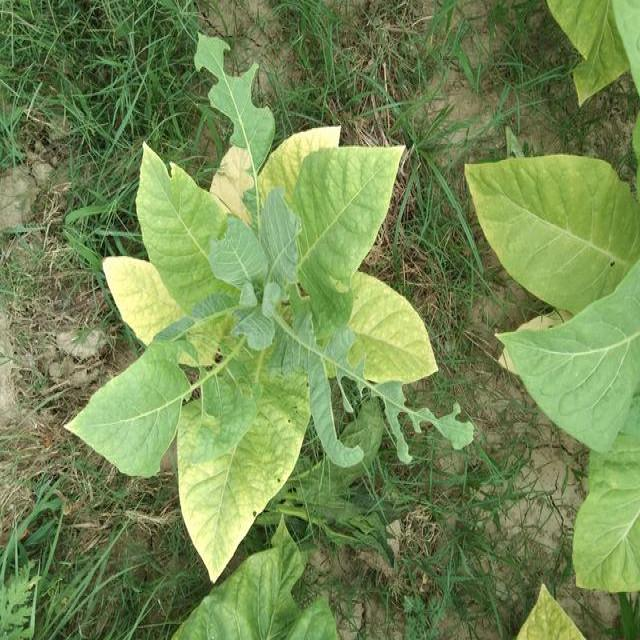crop: (68, 32, 438, 595)
